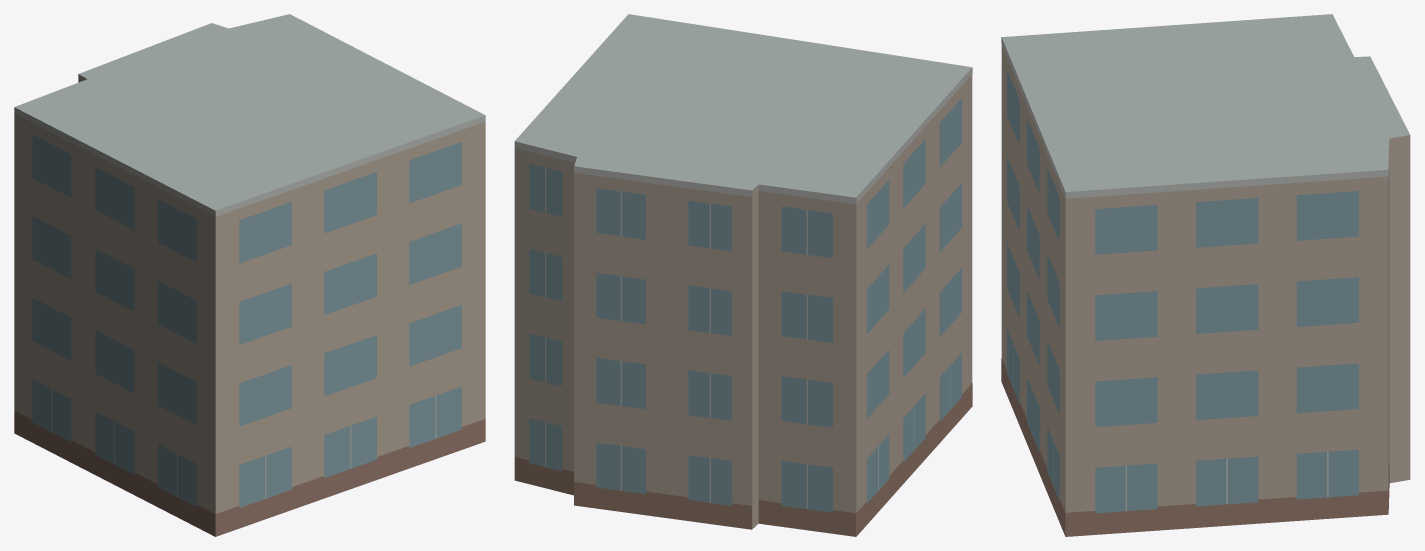
Rendered from survey-upis-32623906.glb.
The picture shows the model from 3 angles, left to right: view 1: azimuth 30°, elevation 25°; view 2: azimuth 150°, elevation 25°; view 3: azimuth 270°, elevation 25°; orthographic projection. The views are drawn at different scales.
Visible parts, largest first — view 1: survey-upis-32623906.tmp; view 2: survey-upis-32623906.tmp; view 3: survey-upis-32623906.tmp.
Part boxes in pixels (<box>): survey-upis-32623906.tmp: <box>14,14,485,536</box>; survey-upis-32623906.tmp: <box>514,14,972,536</box>; survey-upis-32623906.tmp: <box>1001,14,1410,536</box>.
Bounding box in the file's own units: 13.96 × 12.6 × 13.55.
